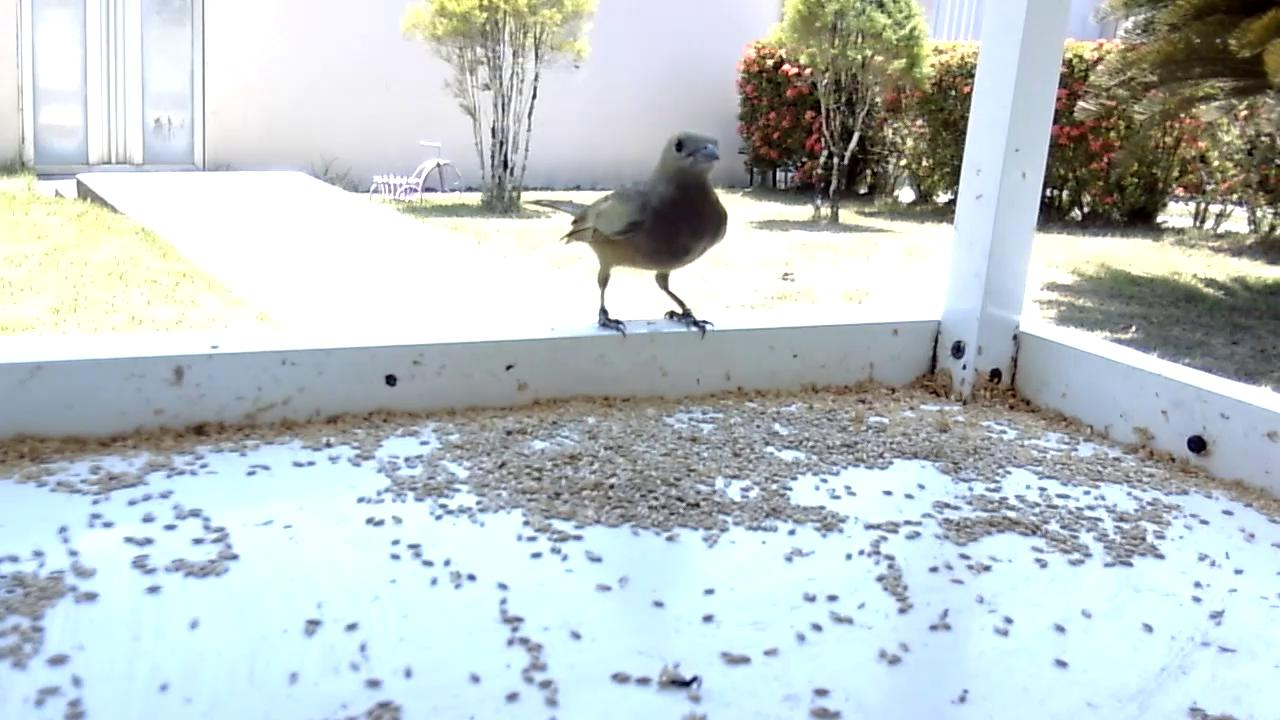sanhaco_do_coqueiro: (523, 128, 733, 344)
